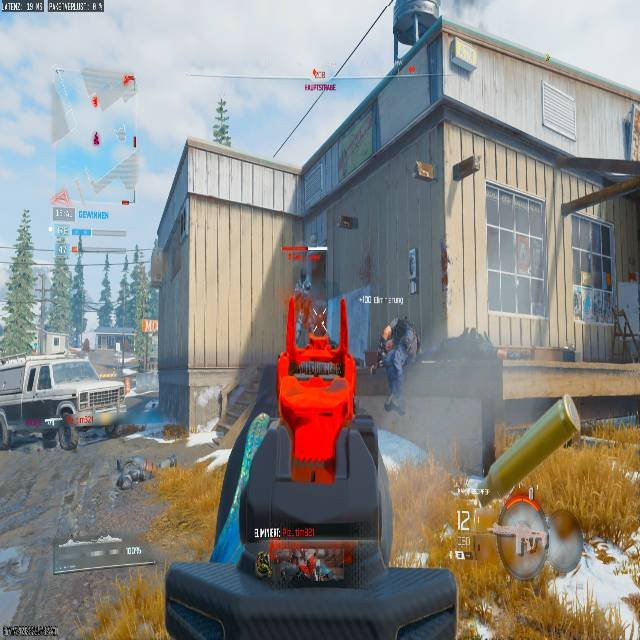head: (383, 318, 403, 340)
player: (379, 315, 416, 414), (38, 404, 80, 453)
